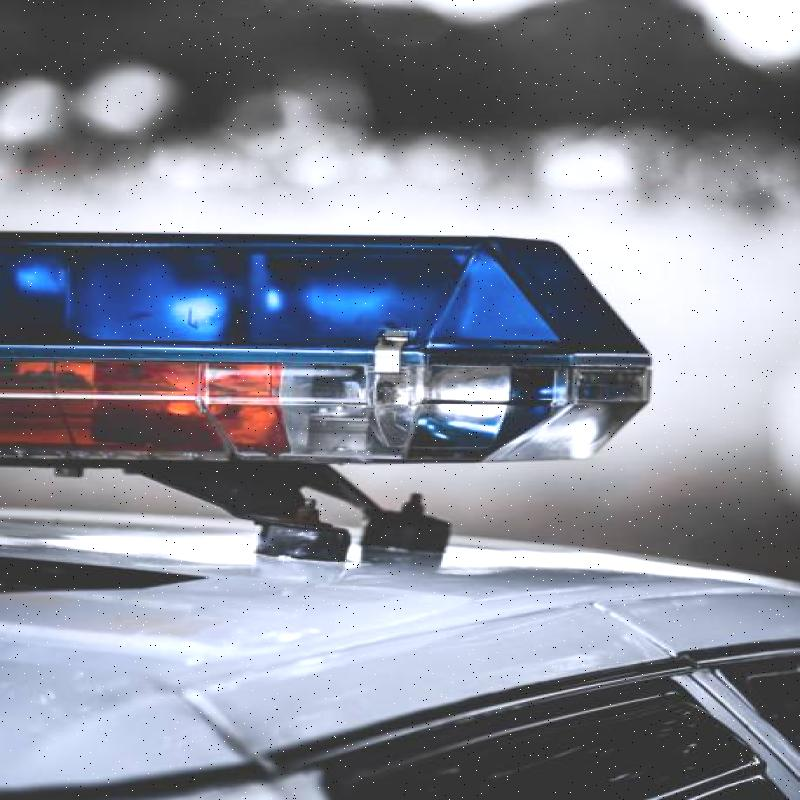AmbulanceSiren: (0, 220, 666, 510)
